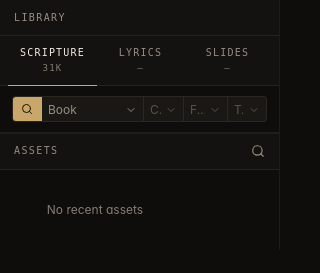
Test: LibraryPanel › switches to Lyrics tab when clicked
Click the button "Lyrics —": (140, 61) [97,36,184,86]
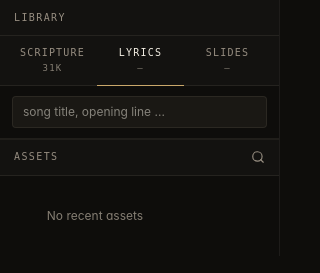
Now the field with placeholder "song title, opening line ..." is shown, box [12,96,267,128]
